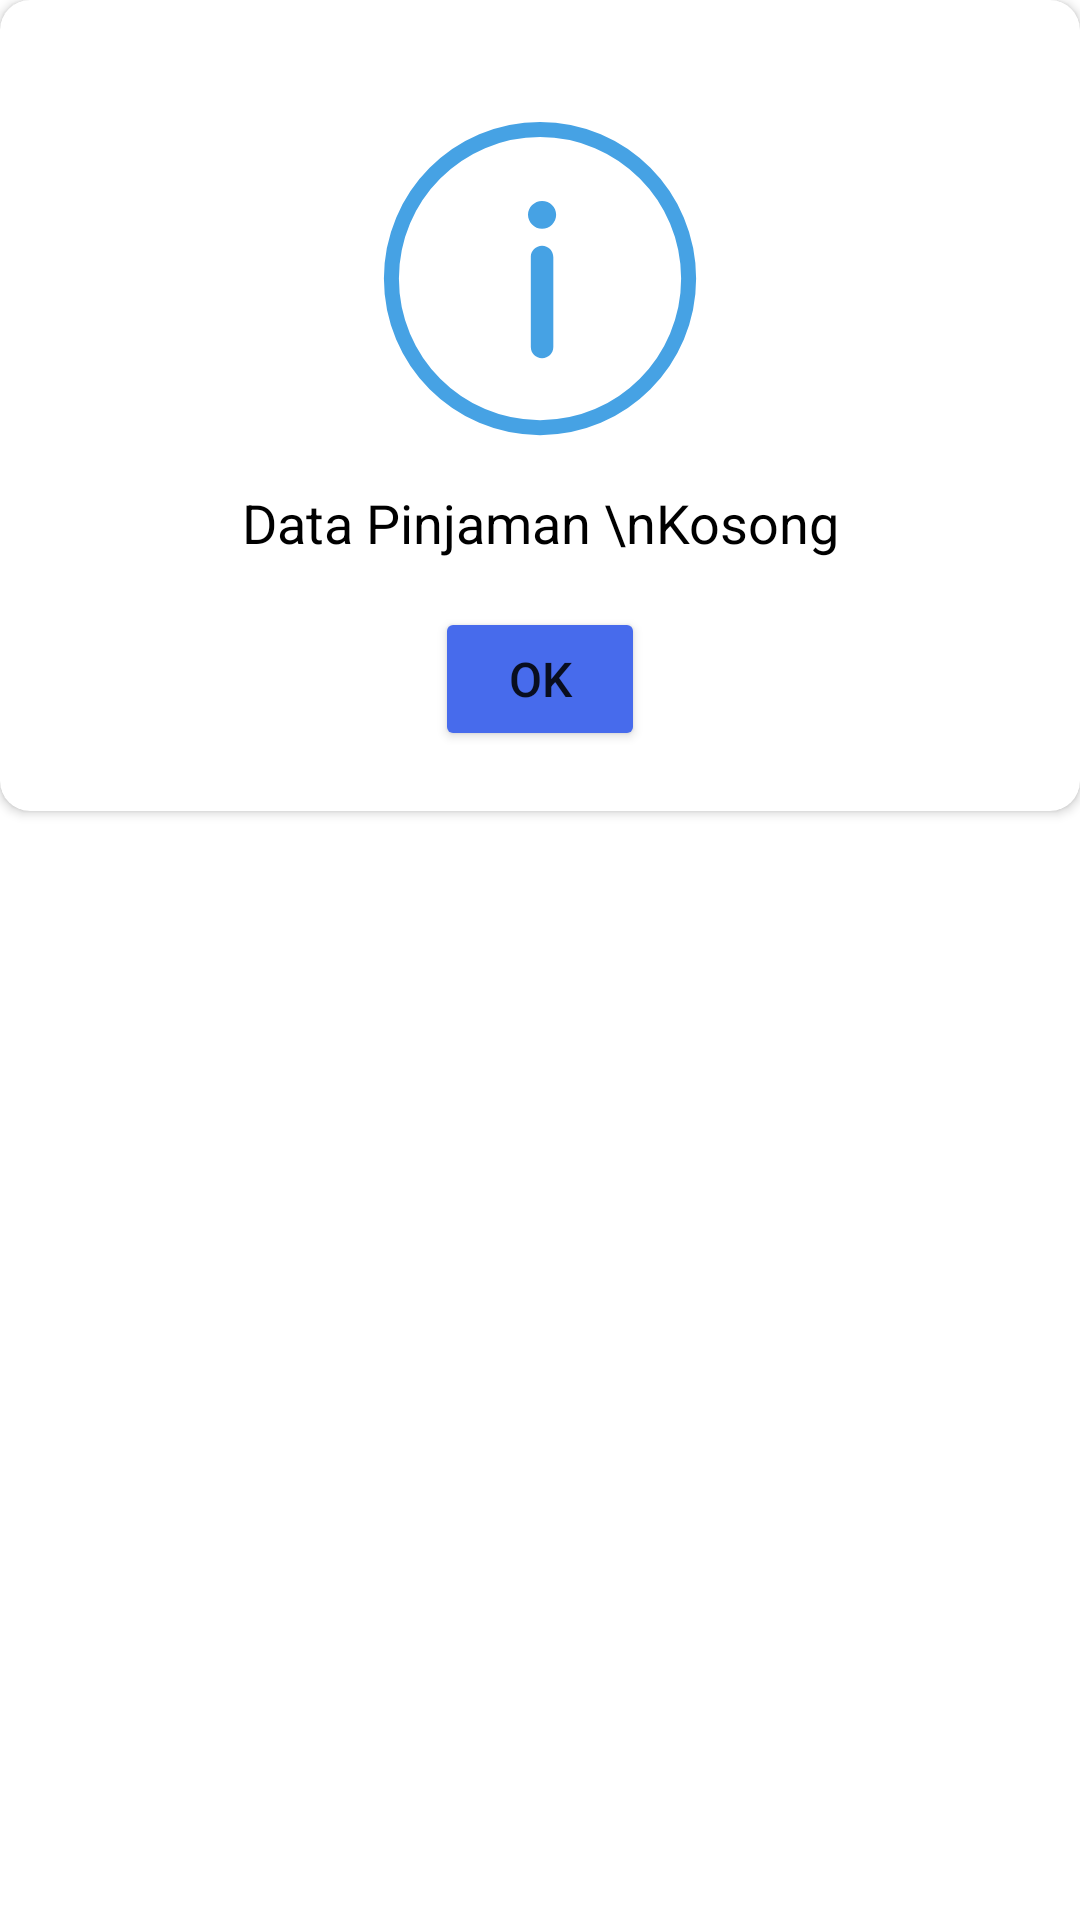

Screen size 1080 × 1920. Icon name, then its center in pixels as (x=x, y=y):
info: (x=540, y=279)
